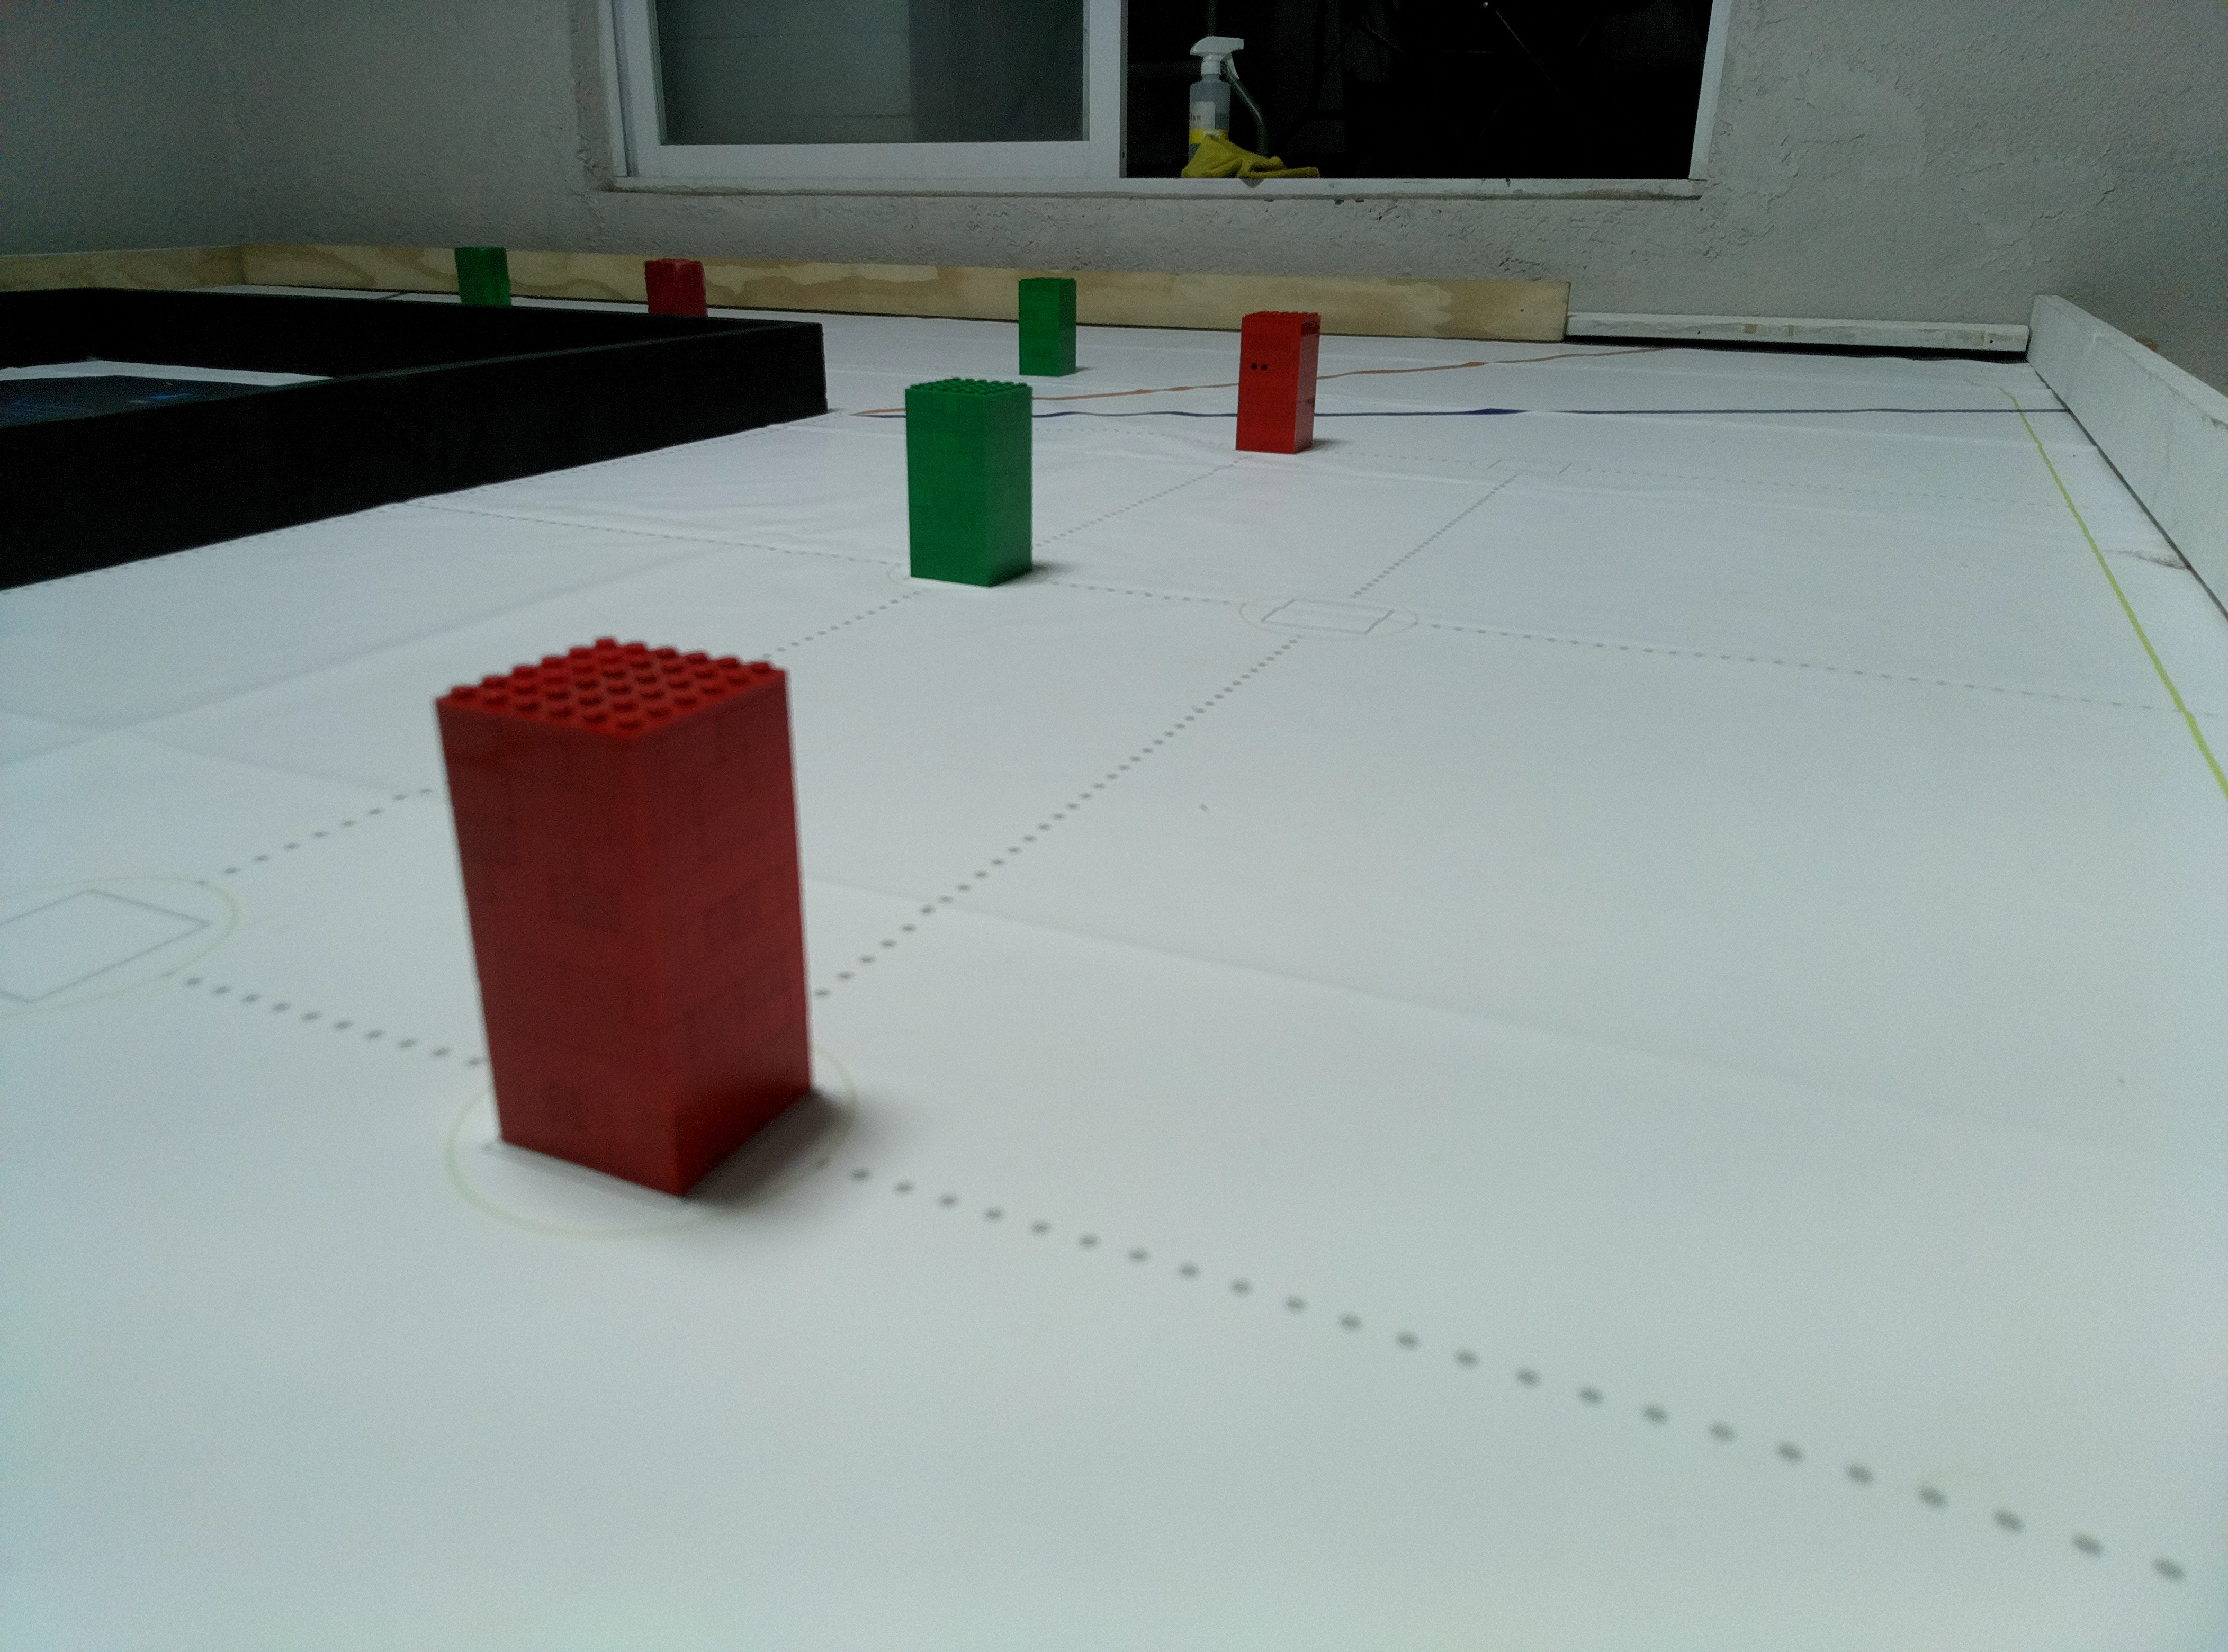greenbox: (901, 375, 1036, 590), (1017, 276, 1078, 378), (453, 245, 514, 304)
redbox: (430, 630, 816, 1203), (1234, 311, 1324, 455), (642, 259, 710, 318)
